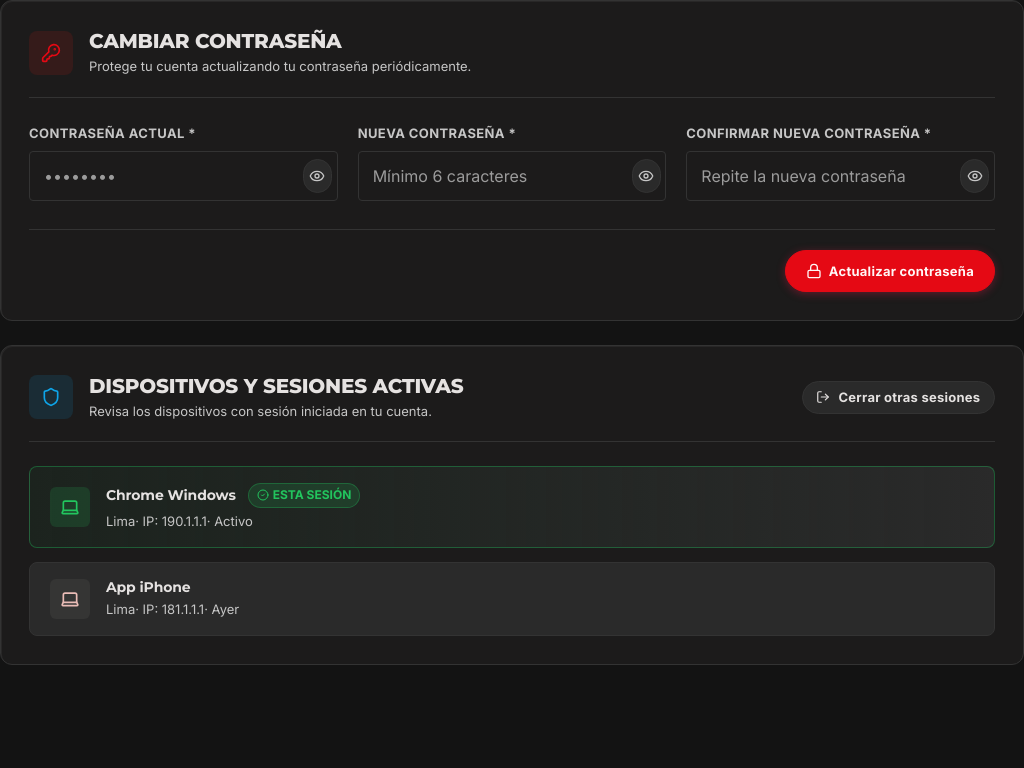
PerfilSeguridadForm.vue › rechaza una clave corta como lo haría la API
Type "admin1234567" into the password field with id "seguridad-actual".
click(183, 176); type("admin1234567")  # box top-left (29, 151), bottom-right (338, 201)
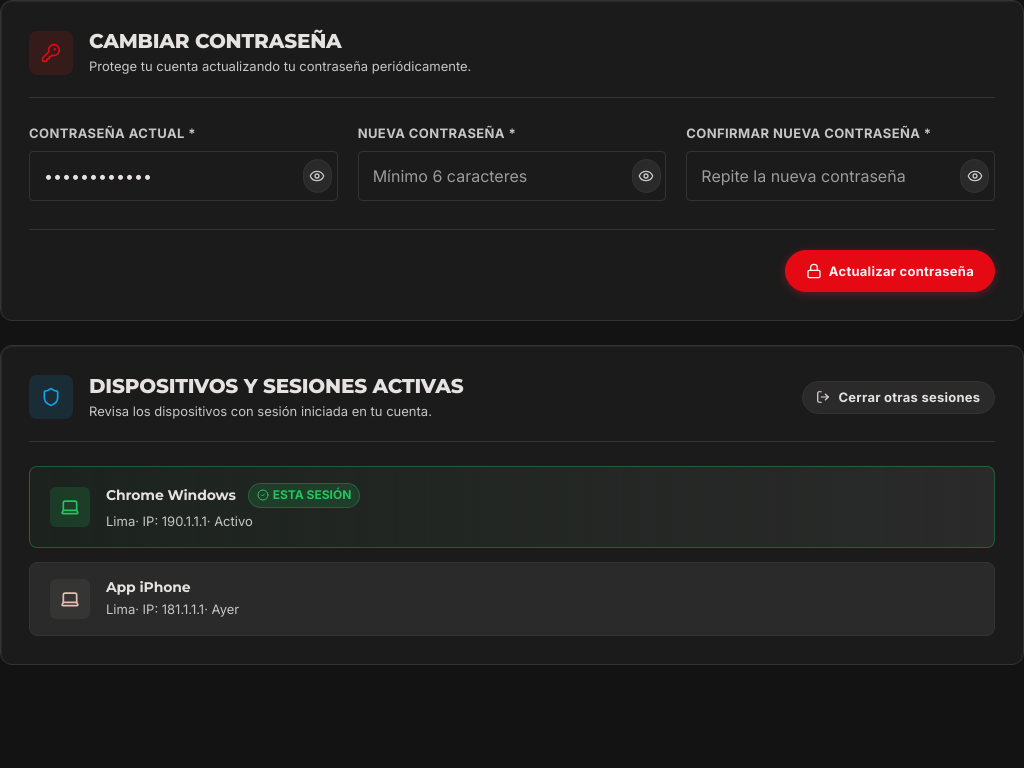
Type "Clave2026" into the password field with id "seguridad-nueva".
click(512, 176); type("Clave2026")  # box top-left (358, 151), bottom-right (666, 201)
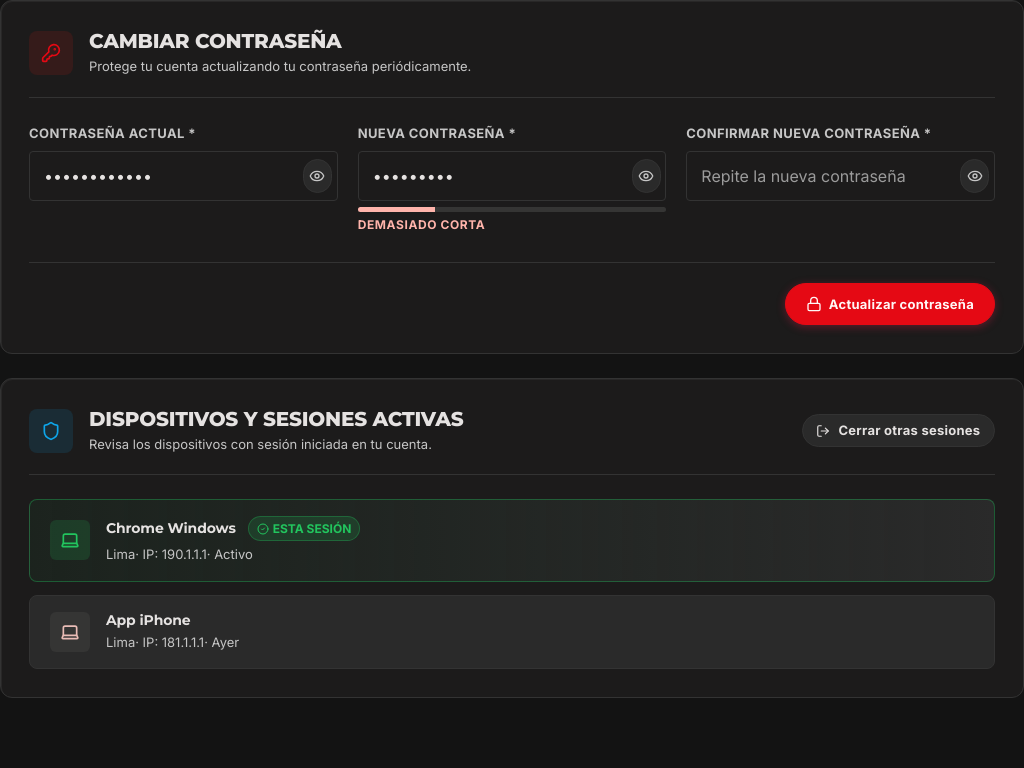
Type "Clave2026" into the password field with id "seguridad-confirmacion".
click(841, 176); type("Clave2026")  # box top-left (686, 151), bottom-right (995, 201)
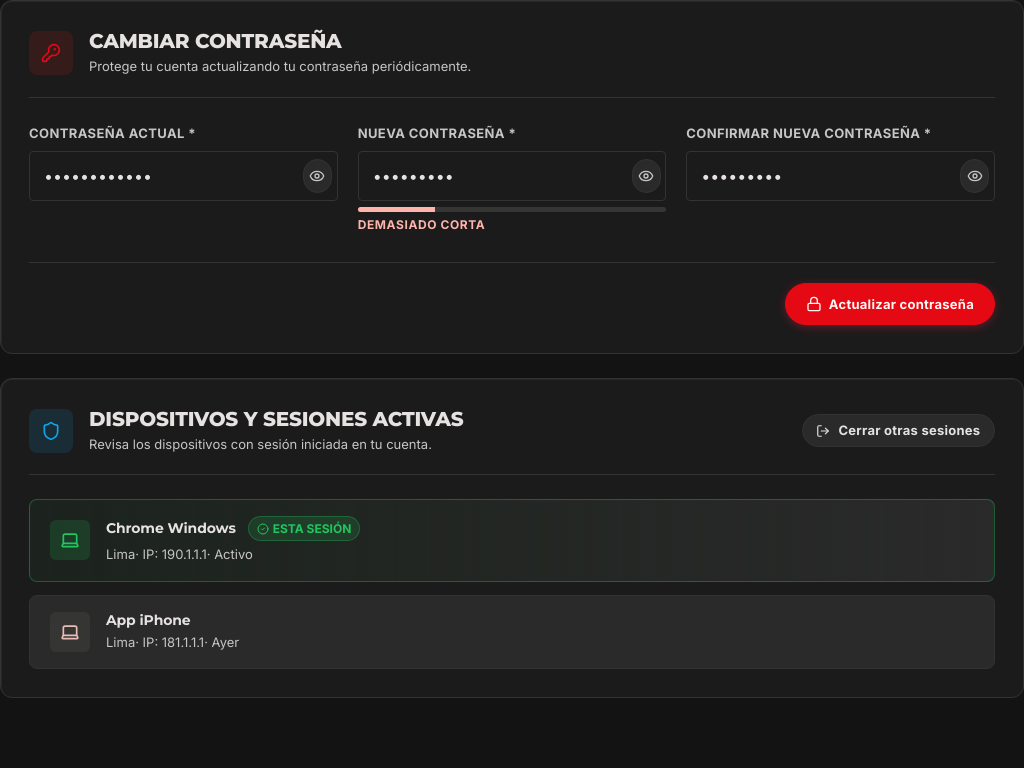
Submit the form, box top-left (0, 0), bottom-right (1023, 354)
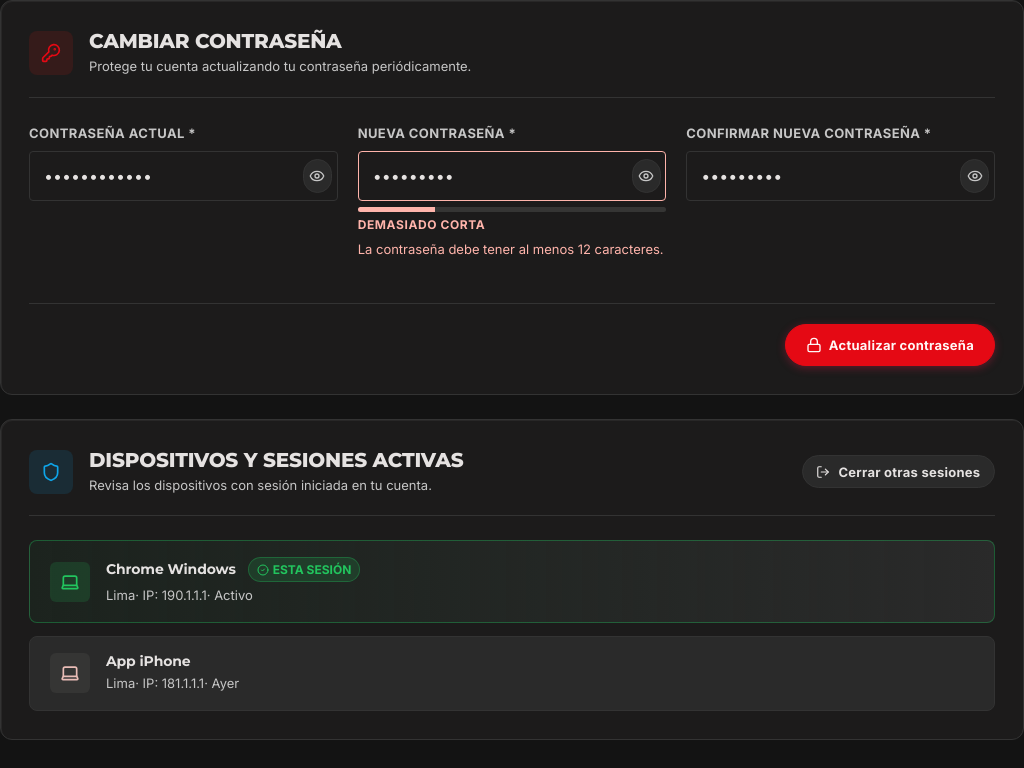
Expected: the text "al menos 12" is shown, top-left (358, 241), bottom-right (664, 257)
